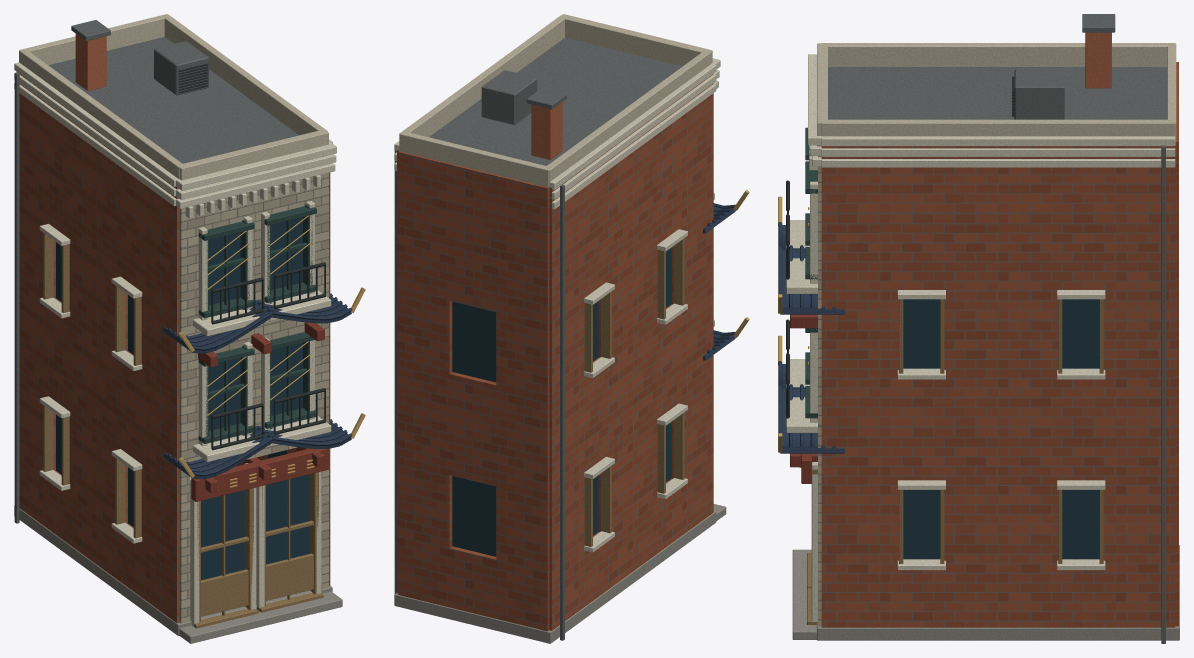
Rendered from CHINA17_lod1.glb.
The picture shows the model from 3 angles, left to right: view 1: azimuth 30°, elevation 25°; view 2: azimuth 150°, elevation 25°; view 3: azimuth 270°, elevation 25°; orthographic projection. The views are drawn at different scales.
Parts seen in each view (by area): view 1: CHINA17_LOD1; view 2: CHINA17_LOD1; view 3: CHINA17_LOD1.
Boxes of the visible parts, box(x1,y1,x2,y2) form: CHINA17_LOD1: box(14, 14, 365, 643); CHINA17_LOD1: box(394, 14, 749, 643); CHINA17_LOD1: box(778, 14, 1179, 643).
Size of the model in its own units: 4.01 by 10.45 by 6.81.
Materials: 15 (12 with a texture image).
